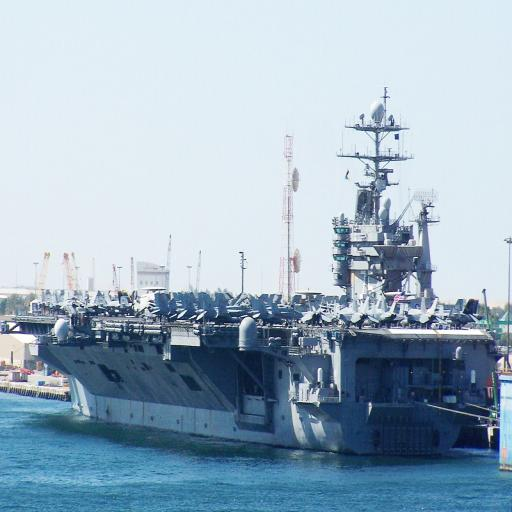Portanaves: (9, 82, 503, 468)
